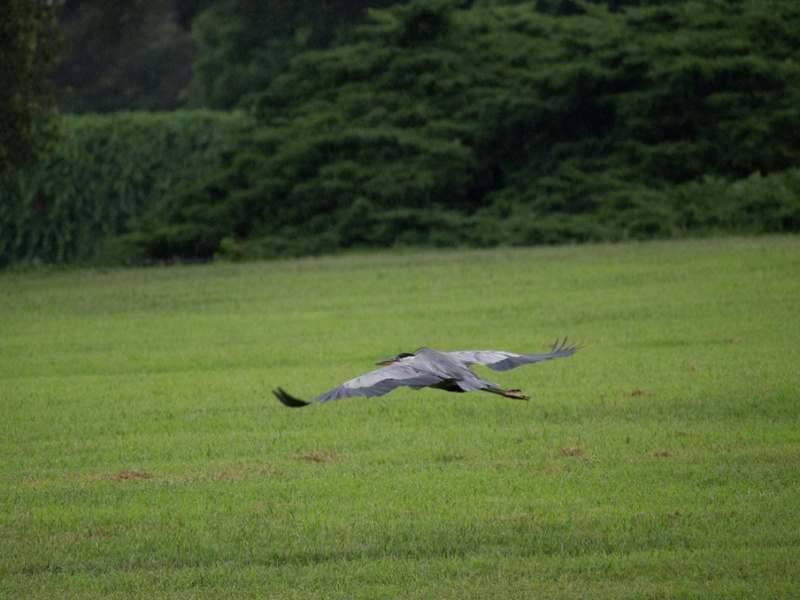heron: (265, 334, 578, 423)
